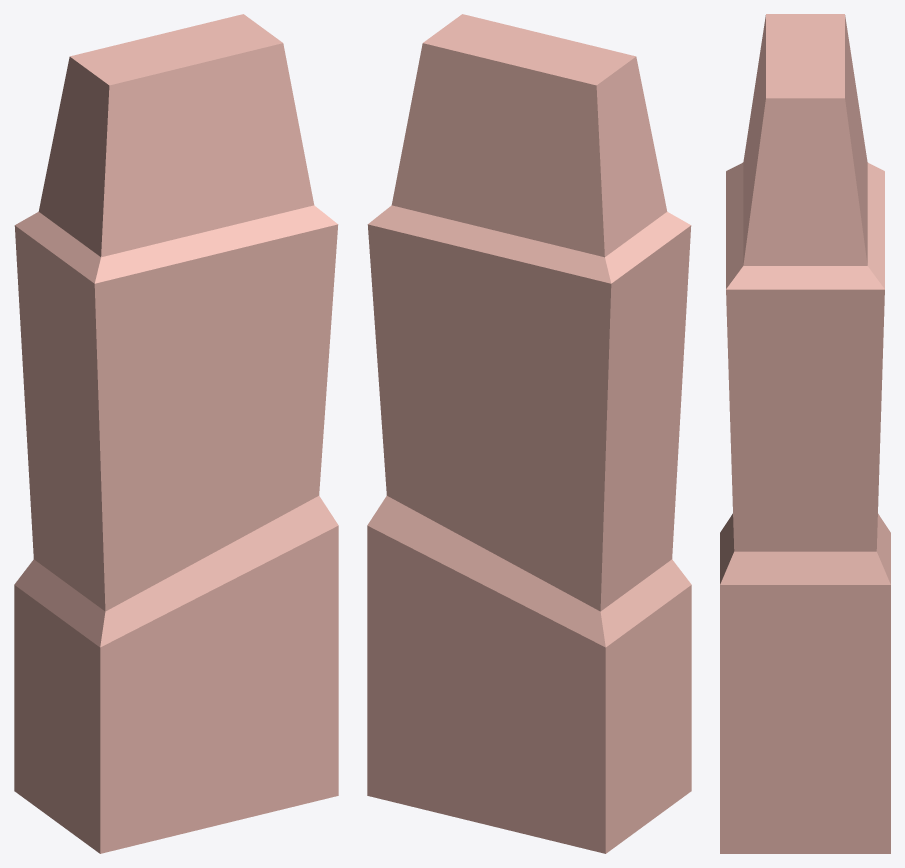
File: Mega_Asset_s_Pack_Cube_354.FBX
3 views of the same model, side by side, from view 1: azimuth 30°, elevation 25°; view 2: azimuth 150°, elevation 25°; view 3: azimuth 270°, elevation 25° (orthographic).
Parts seen in each view (by area): view 1: Mega_Asset_s_Pack_Cube_354; view 2: Mega_Asset_s_Pack_Cube_354; view 3: Mega_Asset_s_Pack_Cube_354.
Part boxes in pixels (box(x1,y1,x2,y2)): Mega_Asset_s_Pack_Cube_354: box(14, 14, 338, 853); Mega_Asset_s_Pack_Cube_354: box(367, 14, 691, 853); Mega_Asset_s_Pack_Cube_354: box(720, 14, 890, 853).
Size of what is drawn, in the model's own units: 104 by 63.58 by 304.
